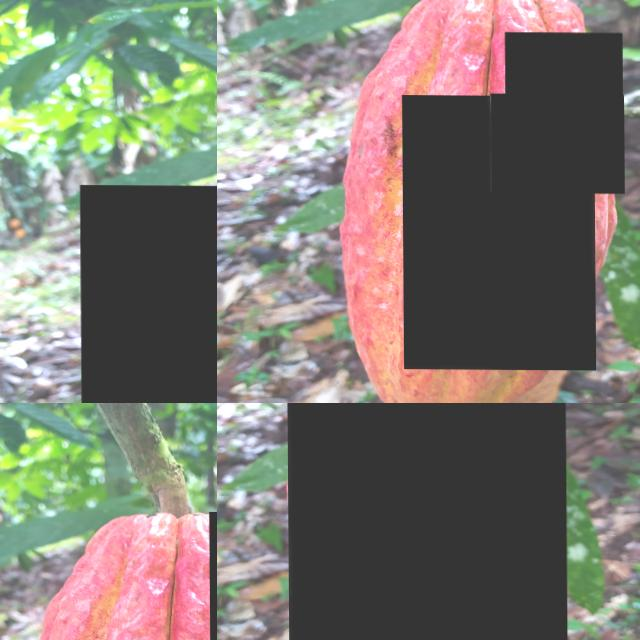Monilia: (402, 95, 595, 370), (504, 31, 623, 115)
Sana: (286, 403, 567, 640), (79, 184, 217, 403), (490, 93, 624, 193)
